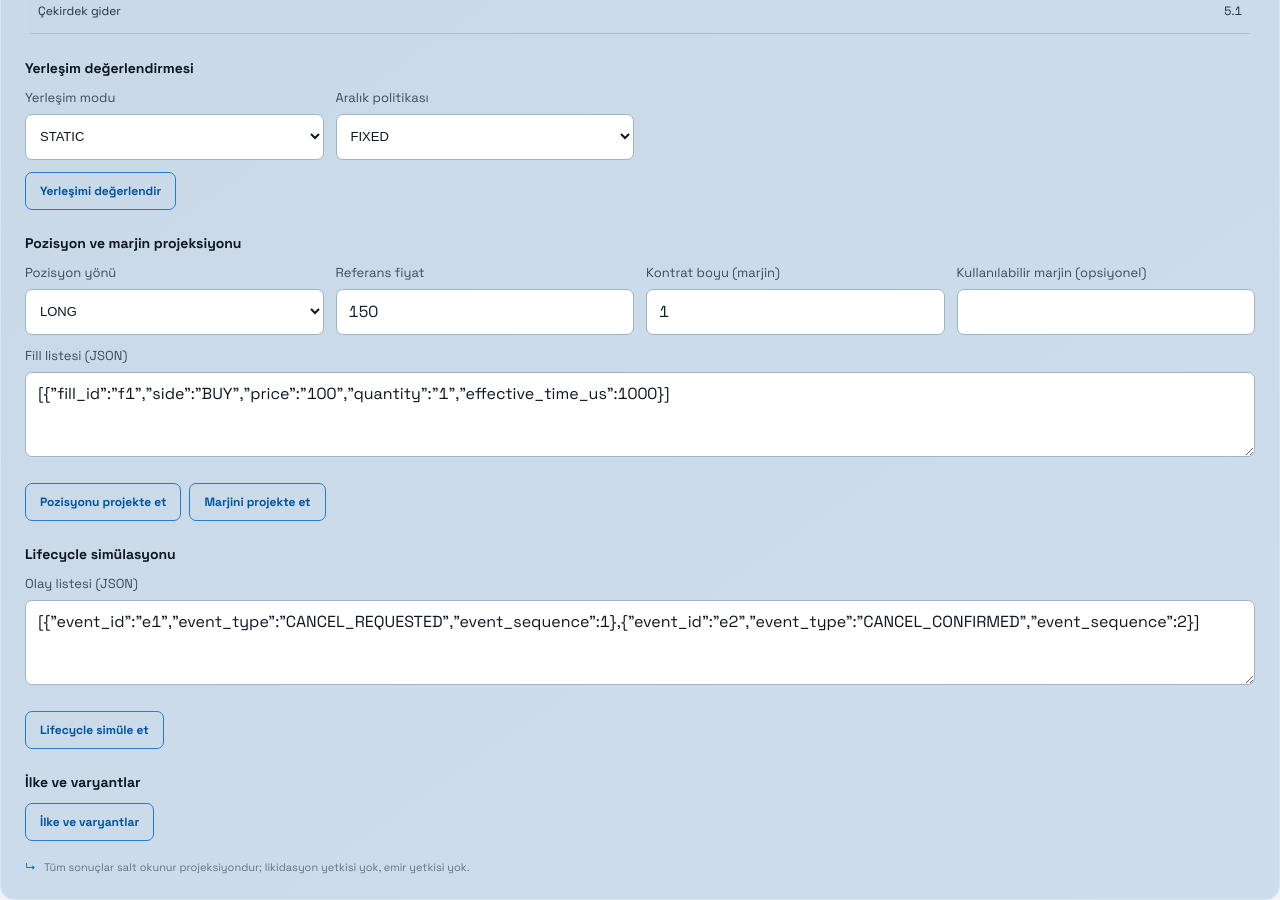
Test case: FuturesPanel grid bot akışı (Faz 12.3) › pozisyon ve marjin projeksiyonu fill listesinden alınır
The image size is (1280, 900).
(page scrolled)
Click the button "Pozisyonu projekte et".
click(103, 502)  # box [25, 483, 181, 521]
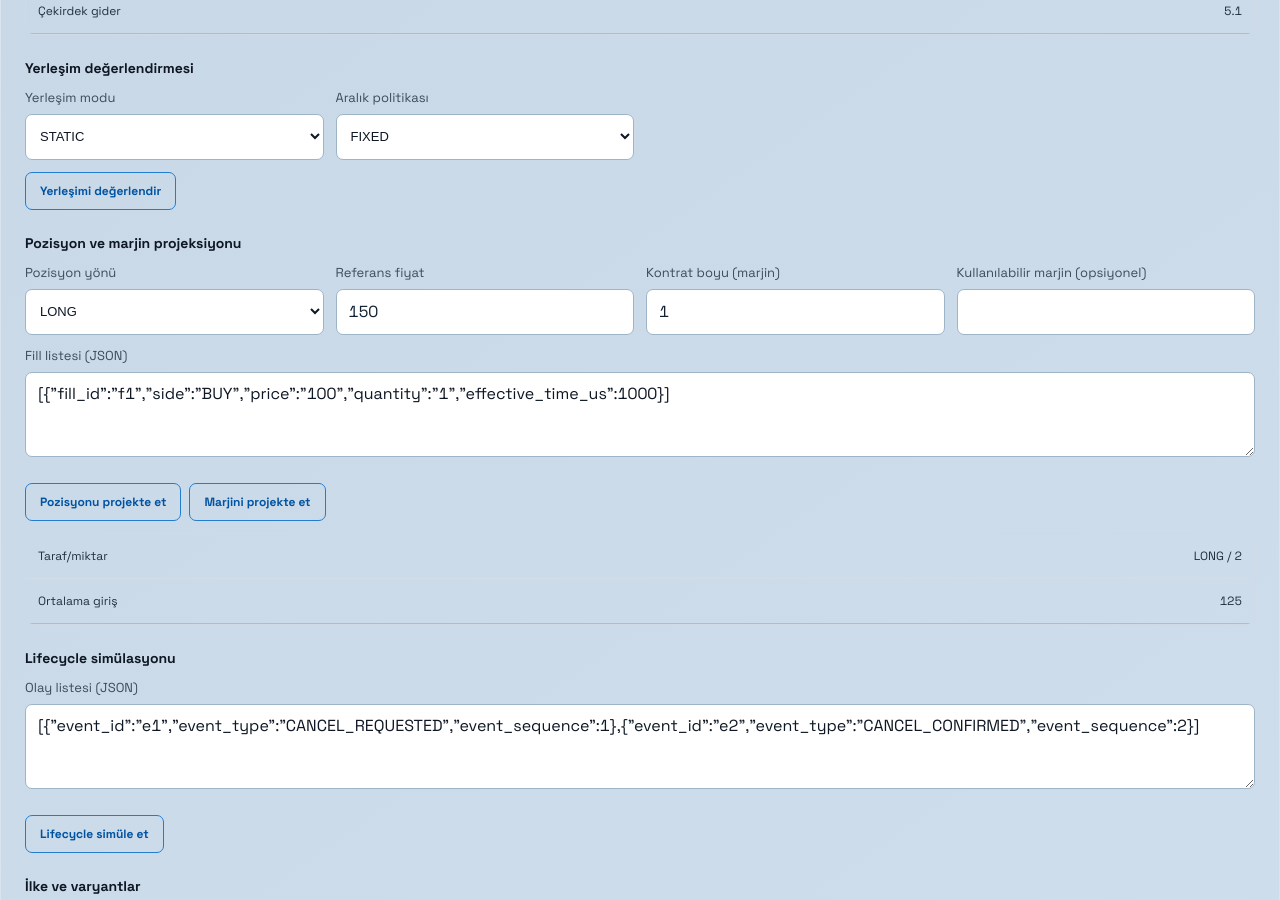
Expected: the text "125" is shown, [749, 578, 1254, 623]
